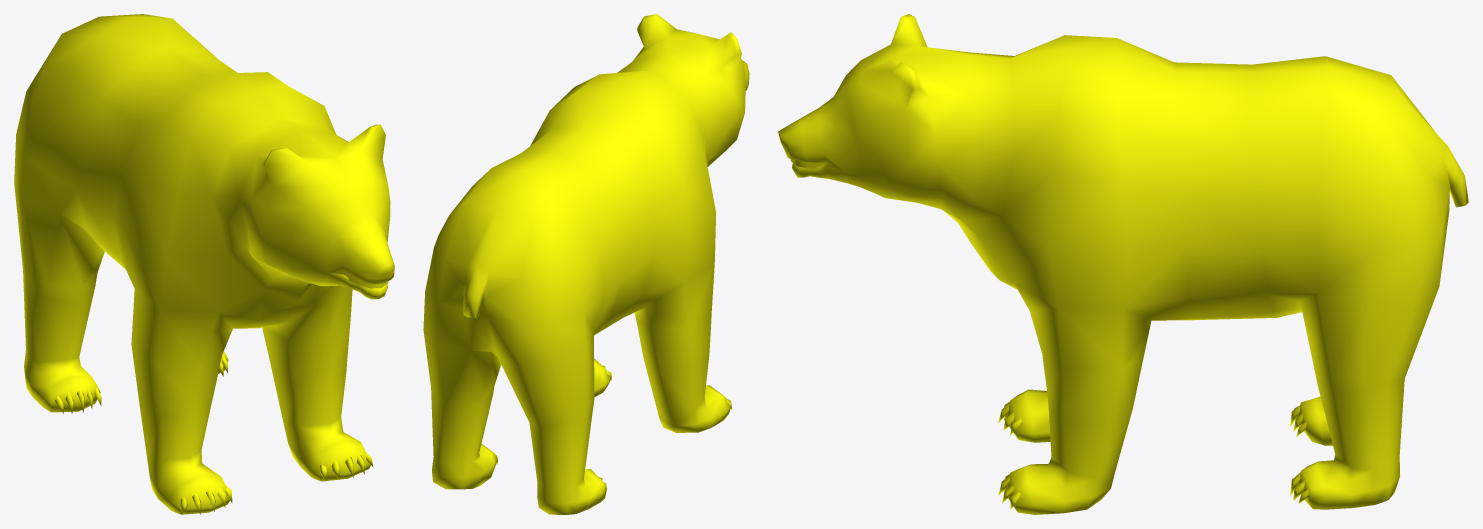
File: bear.glb
The picture shows the model from 3 angles, left to right: view 1: azimuth 30°, elevation 25°; view 2: azimuth 150°, elevation 25°; view 3: azimuth 270°, elevation 25°; orthographic projection. The views are drawn at different scales.
Parts seen in each view (by area): view 1: bear; view 2: bear; view 3: bear.
Part boxes in pixels (x1,y1,x2,y2): bear: (14,14,394,514); bear: (423,14,749,514); bear: (778,14,1468,514).
Size of the model in its own units: 0.1024 by 0.1971 by 0.2884.
Materials: 2 (2 with a texture image).
